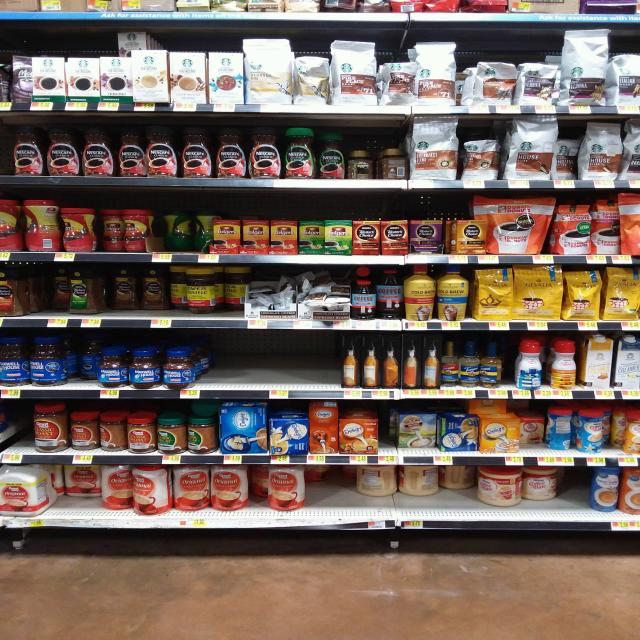void: (197, 331, 243, 399), (312, 468, 351, 530), (243, 331, 277, 399), (279, 331, 310, 398), (313, 331, 336, 398)
